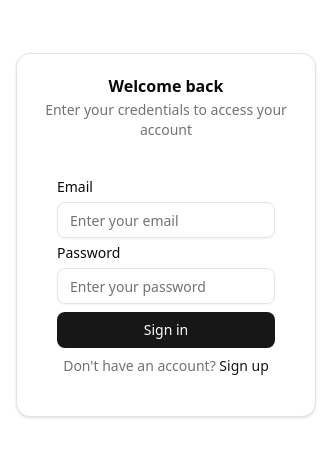
Login › should show error message on login failure
Type "test@example.com" into the field labelled "Email" at {"x": 166, "y": 220}, box 57,202 -> 275,238
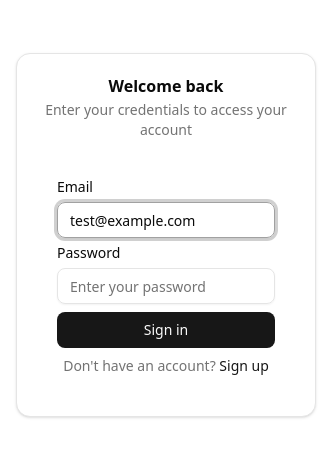
Type "wrongpassword" into the password field labelled "Password" at {"x": 166, "y": 286}, box 57,268 -> 275,304
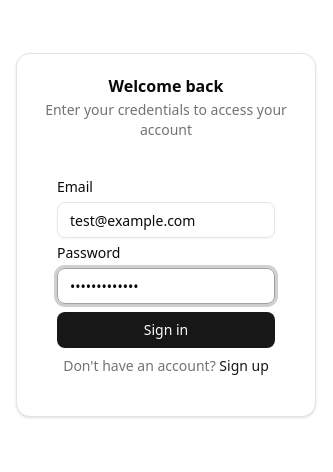
Click the button "Sign in" at {"x": 166, "y": 330}, box 57,312 -> 275,348
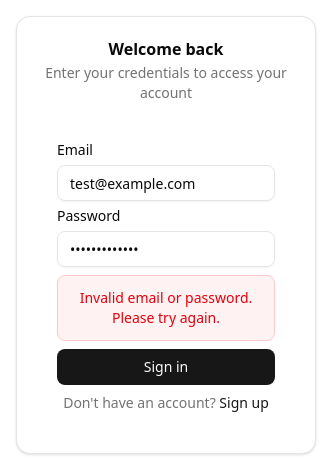
Expected: the text "Invalid email or password. Please try again." is shown, 57,275 -> 275,341
